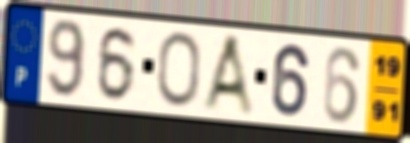6: (96, 24, 139, 104), (322, 43, 363, 126), (270, 40, 311, 119)
9: (45, 17, 88, 101)
A: (199, 32, 259, 120)
O: (156, 29, 202, 110)
